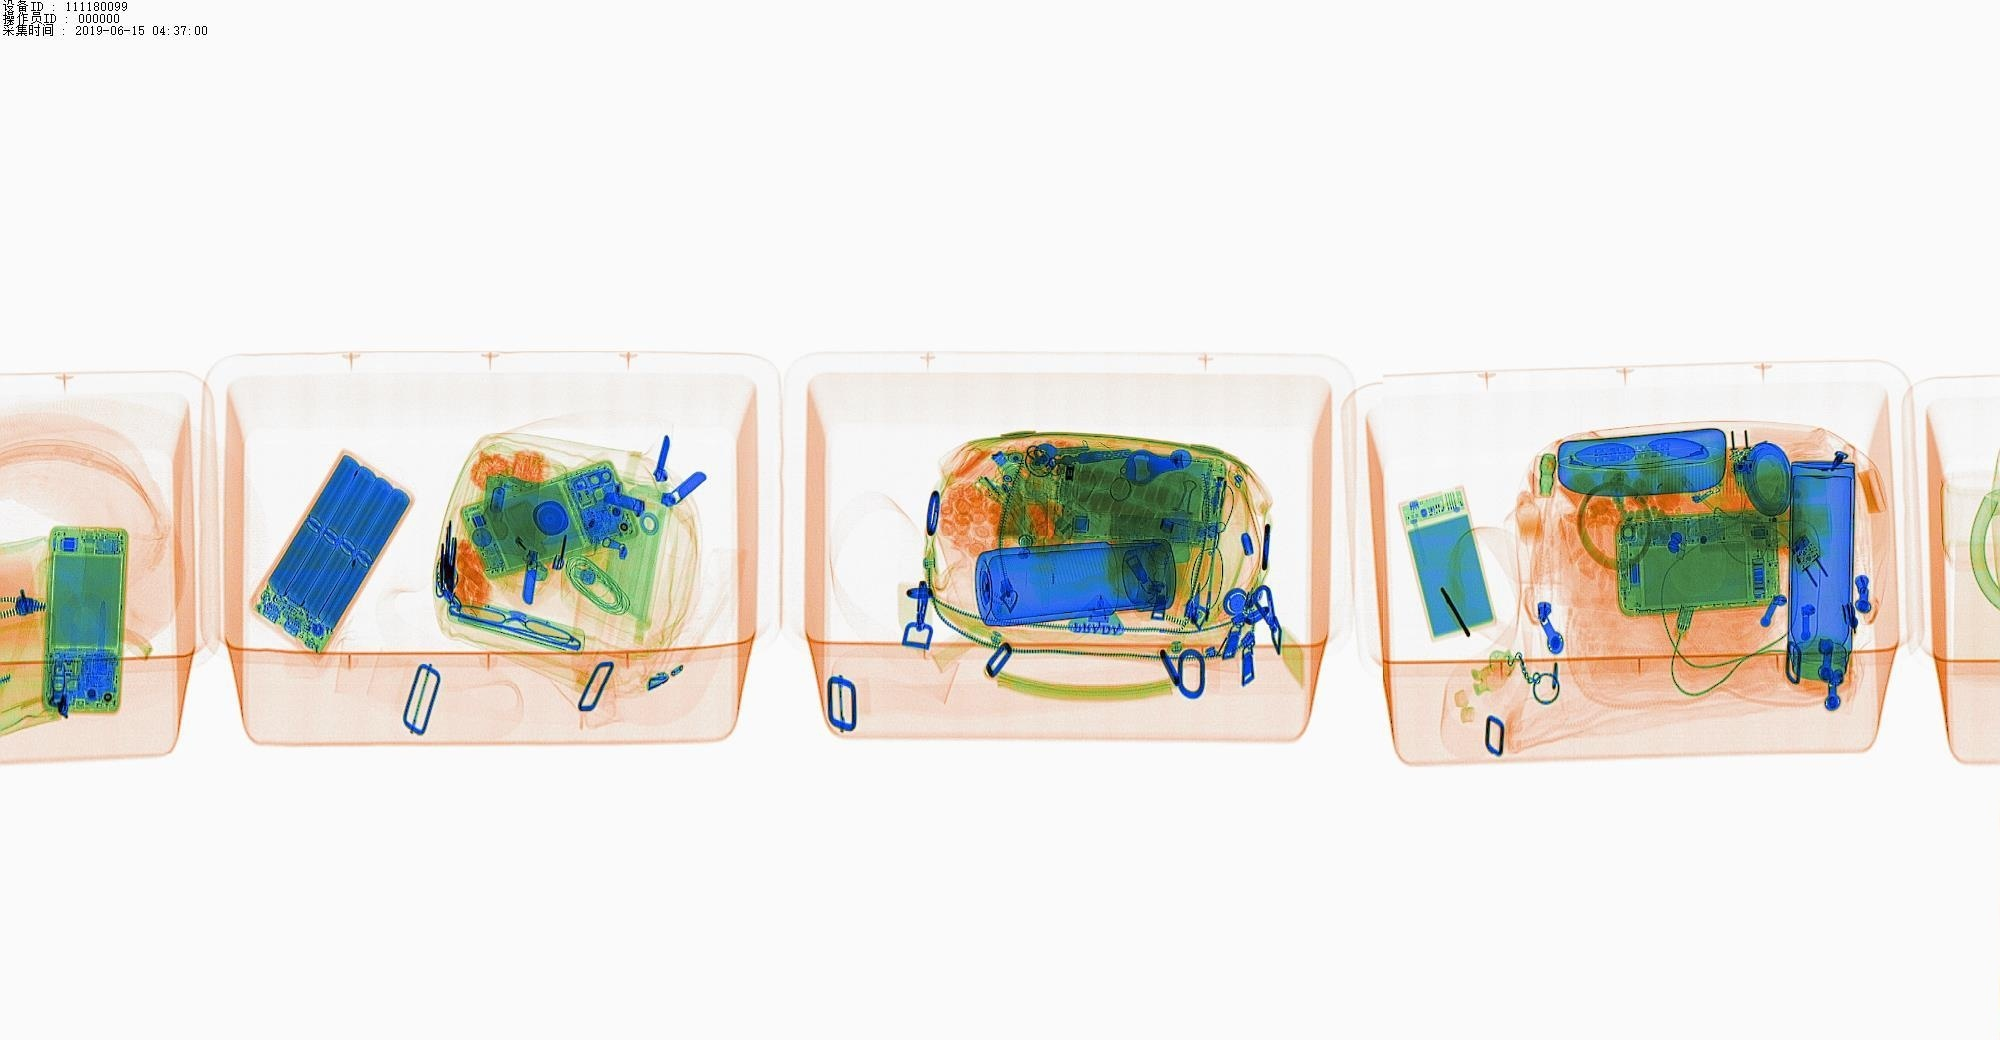NonmetallicFire: (478, 498, 552, 587)
